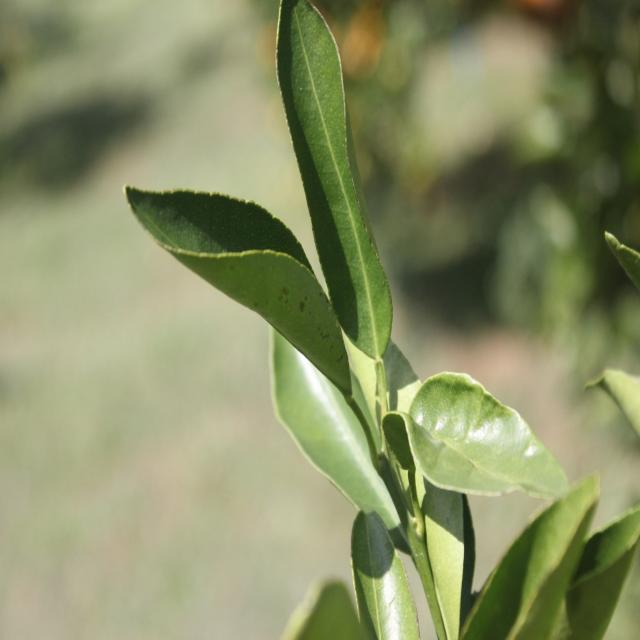melanose: (147, 190, 355, 386)
